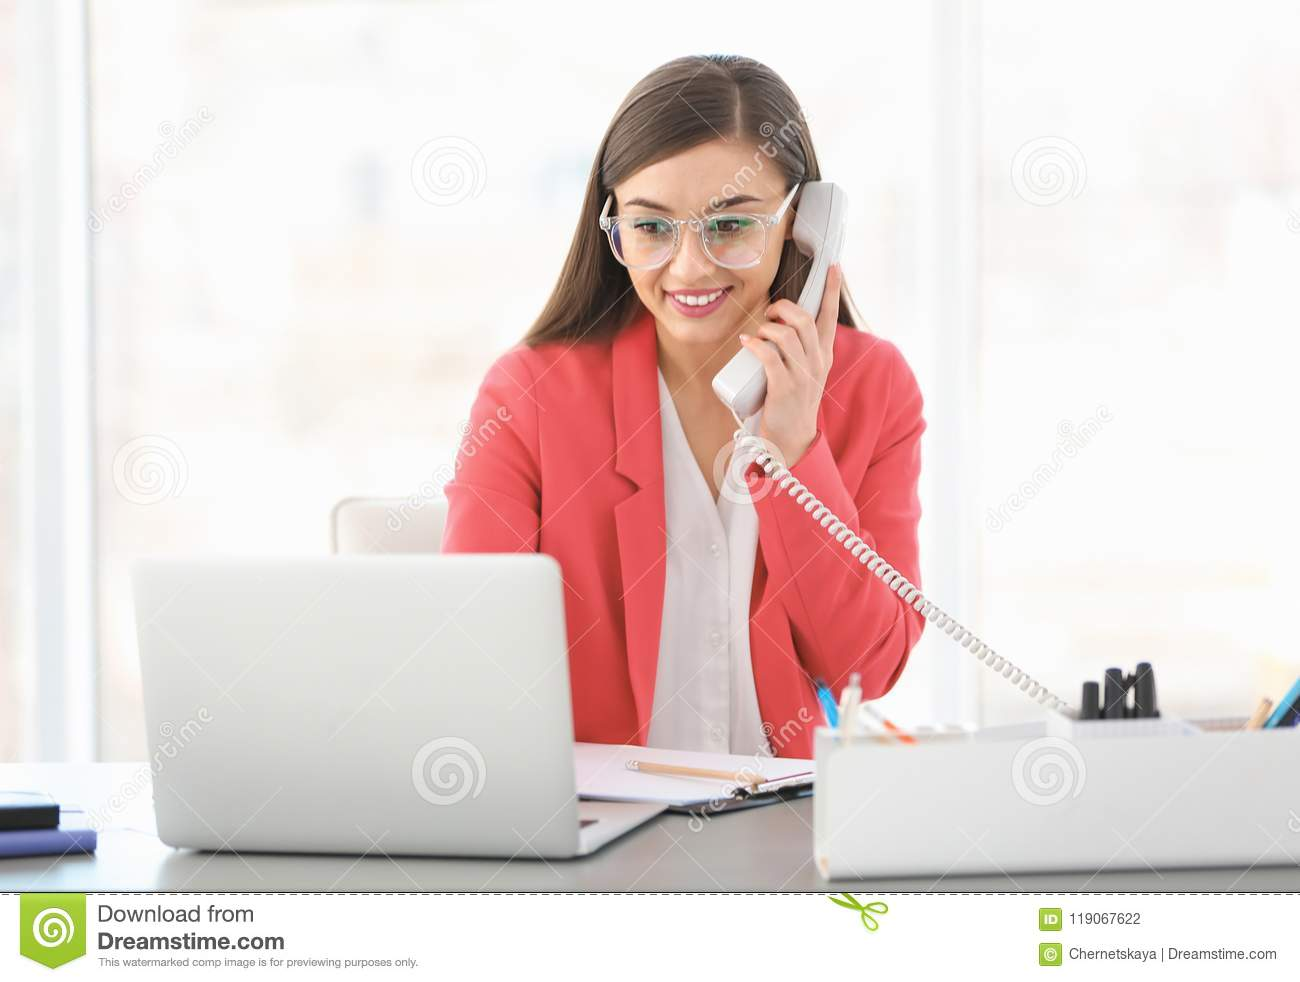phone: (711, 249, 834, 422)
talk: (623, 174, 840, 467)
